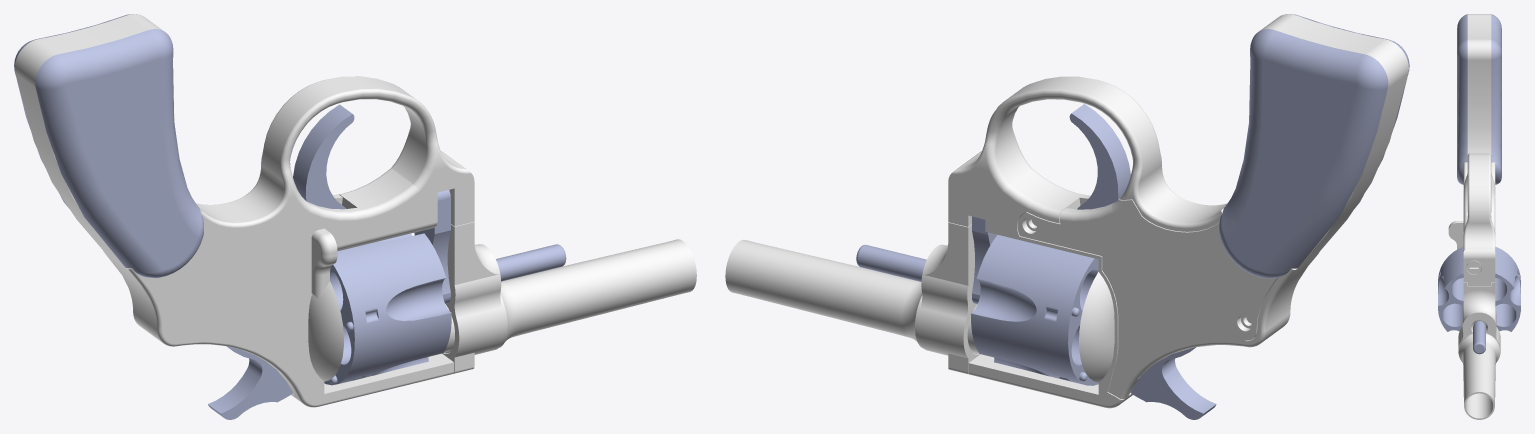
The model's file is revolver.glb.
3 views of the same model, side by side, from view 1: azimuth 30°, elevation 25°; view 2: azimuth 150°, elevation 25°; view 3: azimuth 270°, elevation 25° (orthographic). The views are drawn at different scales.
Visible parts, largest first — view 1: NAUO1, NAUO11, NAUO4, NAUO9, NAUO7, NAUO10, NAUO2; view 2: NAUO1, NAUO12, NAUO4, NAUO9, NAUO7, NAUO10, NAUO2; view 3: NAUO1, NAUO4, NAUO11, NAUO12, NAUO10.
Part boxes in pixels (box(x1,y1,x2,y2)): NAUO1: box(14, 14, 696, 407); NAUO11: box(35, 29, 203, 277); NAUO4: box(324, 233, 451, 385); NAUO9: box(293, 104, 354, 209); NAUO7: box(208, 346, 292, 419); NAUO10: box(496, 244, 566, 281); NAUO2: box(414, 190, 450, 303); NAUO1: box(725, 14, 1408, 408); NAUO12: box(1219, 29, 1388, 278); NAUO4: box(971, 235, 1098, 385); NAUO9: box(1069, 104, 1130, 209); NAUO7: box(1130, 347, 1216, 419); NAUO10: box(856, 244, 926, 281); NAUO2: box(972, 216, 997, 304); NAUO1: box(1448, 14, 1500, 419); NAUO4: box(1438, 246, 1520, 331); NAUO11: box(1457, 14, 1467, 184); NAUO12: box(1491, 14, 1501, 184); NAUO10: box(1473, 321, 1485, 354).
Size of the model in its own units: 0.2039 by 0.1231 by 0.039.
